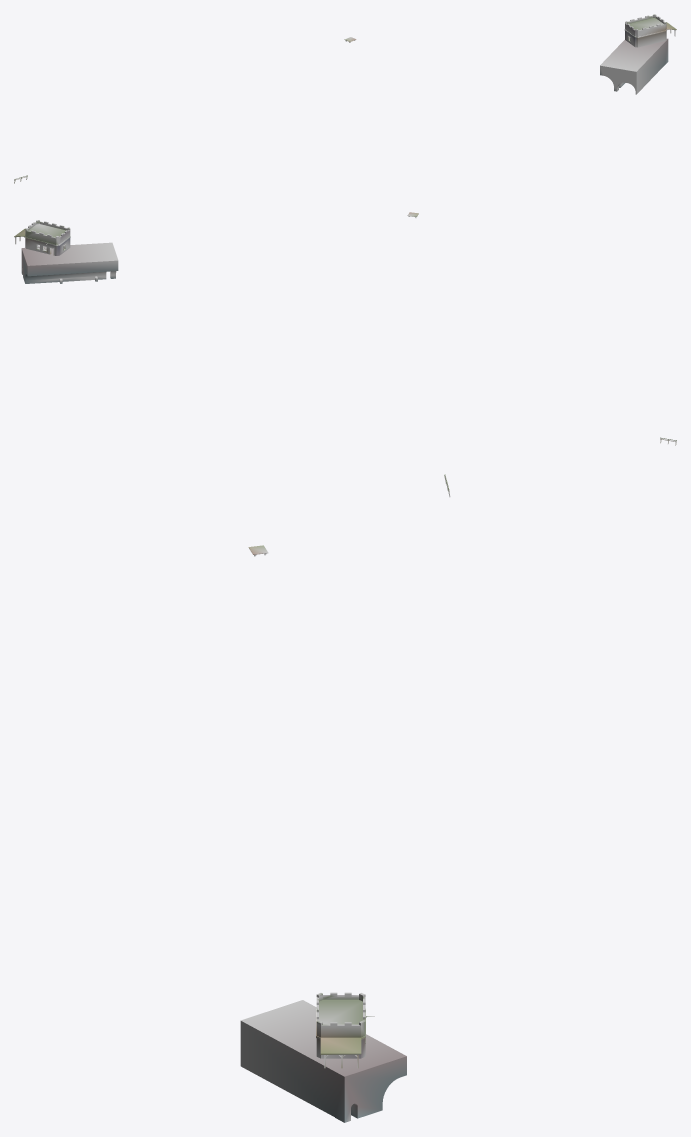
File: inn.glb
The picture shows the model from 3 angles, top to bottom: view 1: azimuth 30°, elevation 25°; view 2: azimuth 150°, elevation 25°; view 3: azimuth 270°, elevation 25°; orthographic projection. The views are drawn at different scales.
Parts seen in each view (by area): view 1: INN; view 2: INN; view 3: INN.
Part boxes in pixels (x1,y1,x2,y2): INN: (14,14,676,183); INN: (14,212,676,445); INN: (240,474,450,1122).
Size of the model in its own units: 233 by 42.64 by 33.53.
